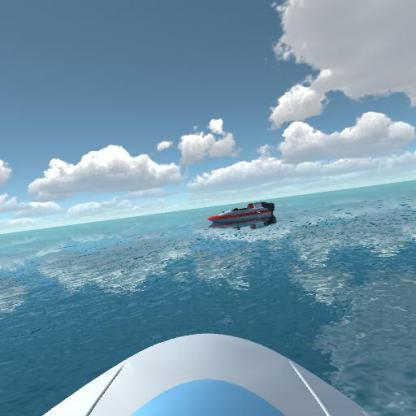usv3: (202, 198, 280, 230)
